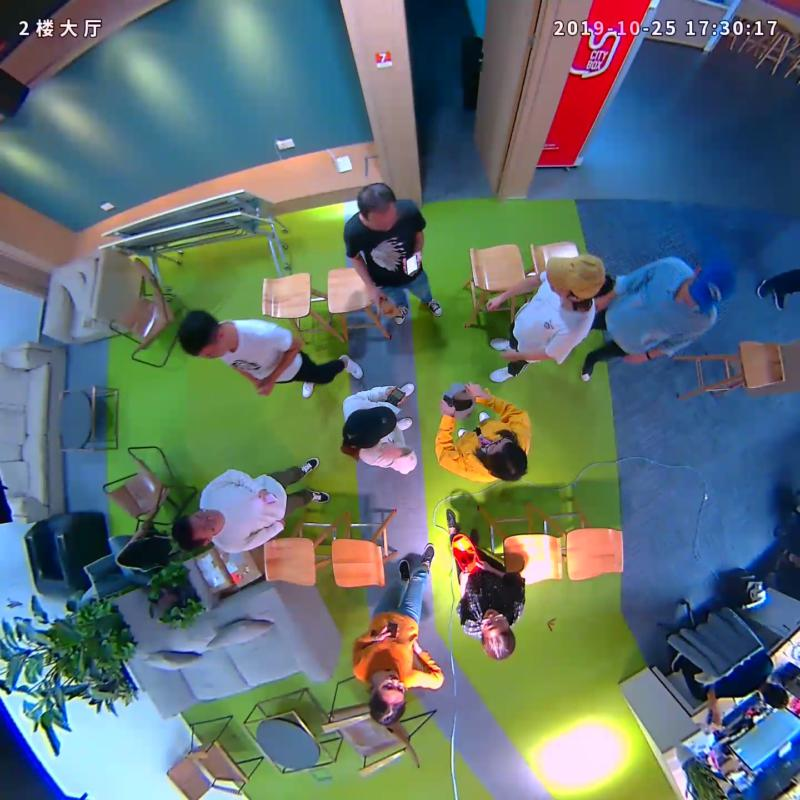head: (679, 261, 736, 315), (545, 254, 607, 303), (178, 307, 226, 359), (342, 406, 397, 449), (481, 434, 529, 483), (171, 509, 224, 553), (368, 668, 407, 726), (357, 183, 399, 232), (480, 607, 517, 661)
